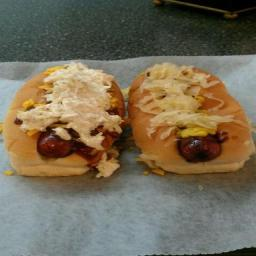hotdog: (34, 124, 86, 164), (169, 133, 233, 164)
